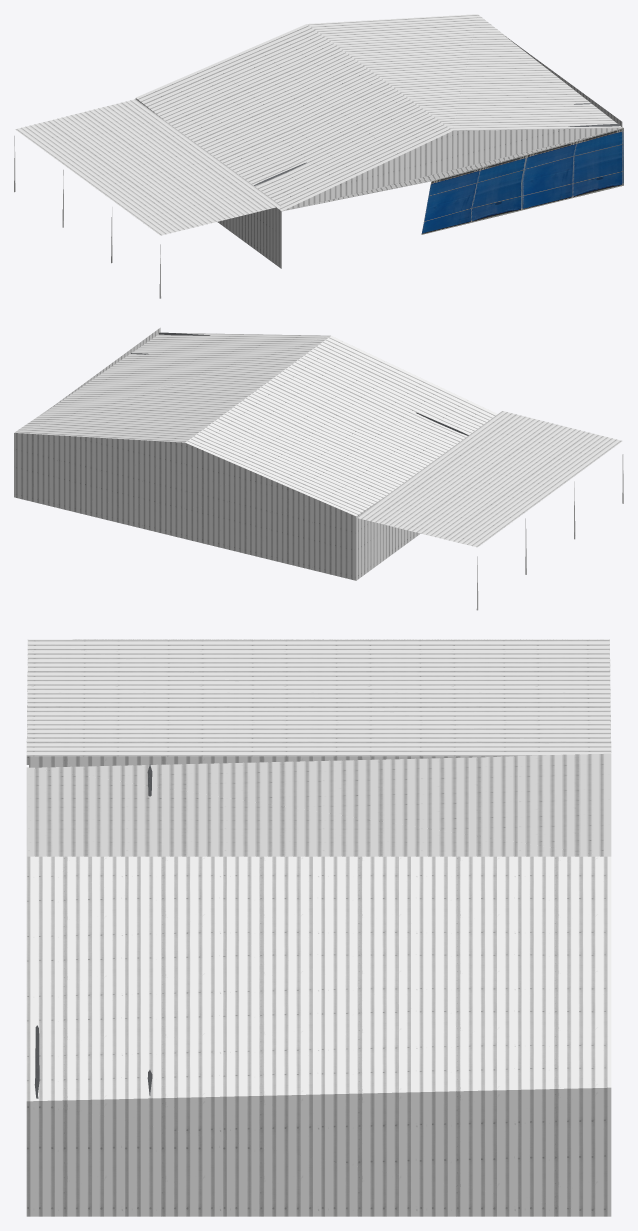
File: KibuiBigHangar_LOD3.gltf
The picture shows the model from 3 angles, top to bottom: view 1: azimuth 30°, elevation 25°; view 2: azimuth 150°, elevation 25°; view 3: azimuth 270°, elevation 25°; orthographic projection. The views are drawn at different scales.
Visible parts, largest first — view 1: node11, node12; view 2: node11; view 3: node11.
Boxes of the visible parts, x1,y1,x2,y2 form: node11: [14, 14, 623, 298]; node12: [421, 128, 623, 234]; node11: [14, 327, 623, 610]; node11: [26, 639, 611, 1216].
Bounding box in the file's own units: 22.9 × 4.55 × 12.5.
